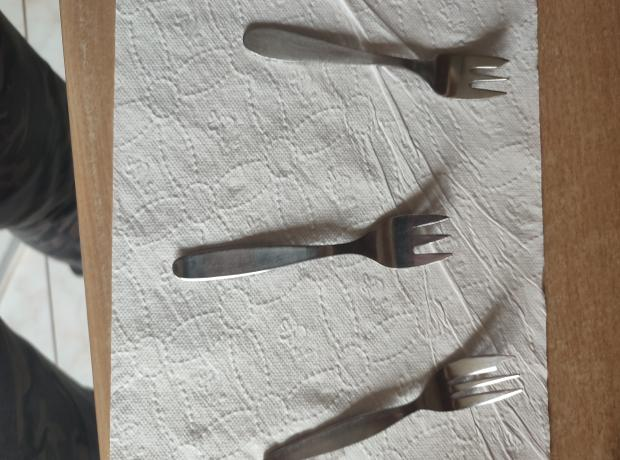metal: (263, 354, 524, 460), (172, 214, 454, 288), (243, 23, 510, 100)
